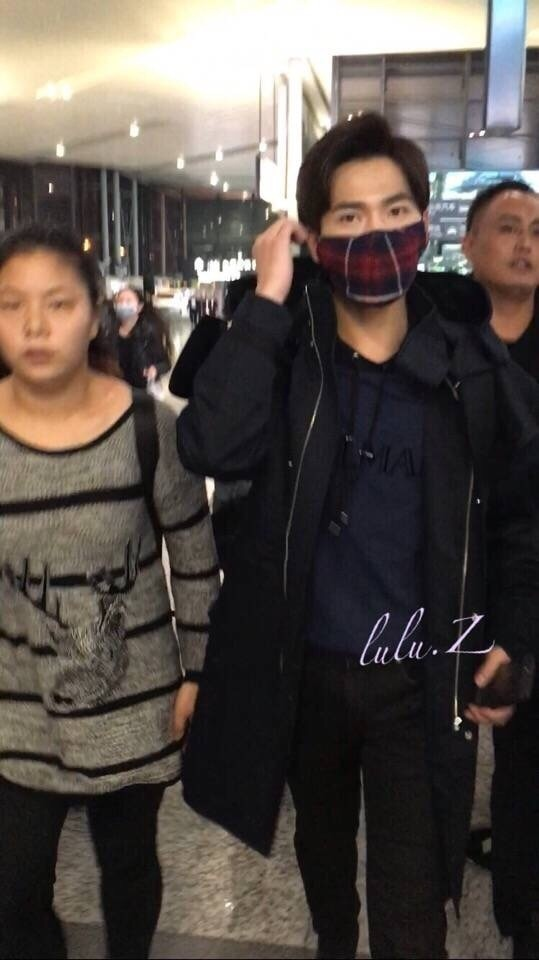Mask: (316, 186, 432, 302)
